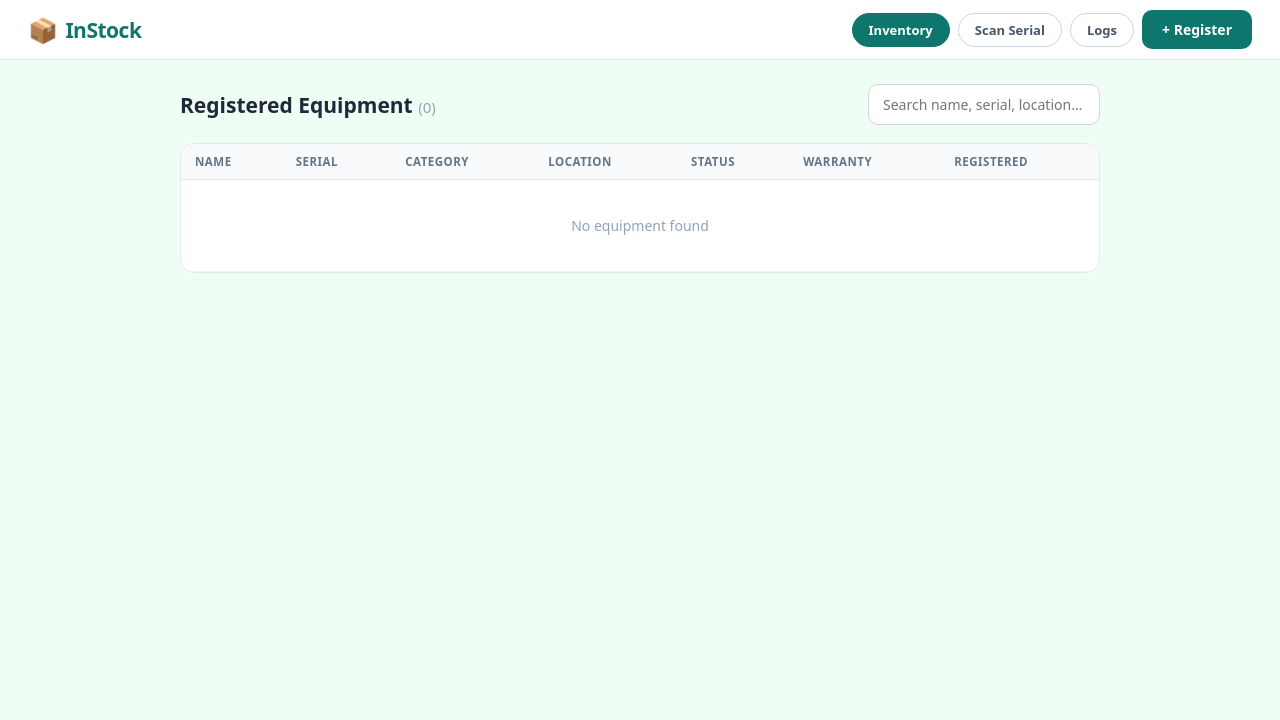
InStock — Sprint 2 Integration Tests › Register Choice Modal › closes the choice modal when Cancel is clicked
Click the button "+ Register" at (1197, 30), box x1=1142 y1=10 x2=1252 y2=49
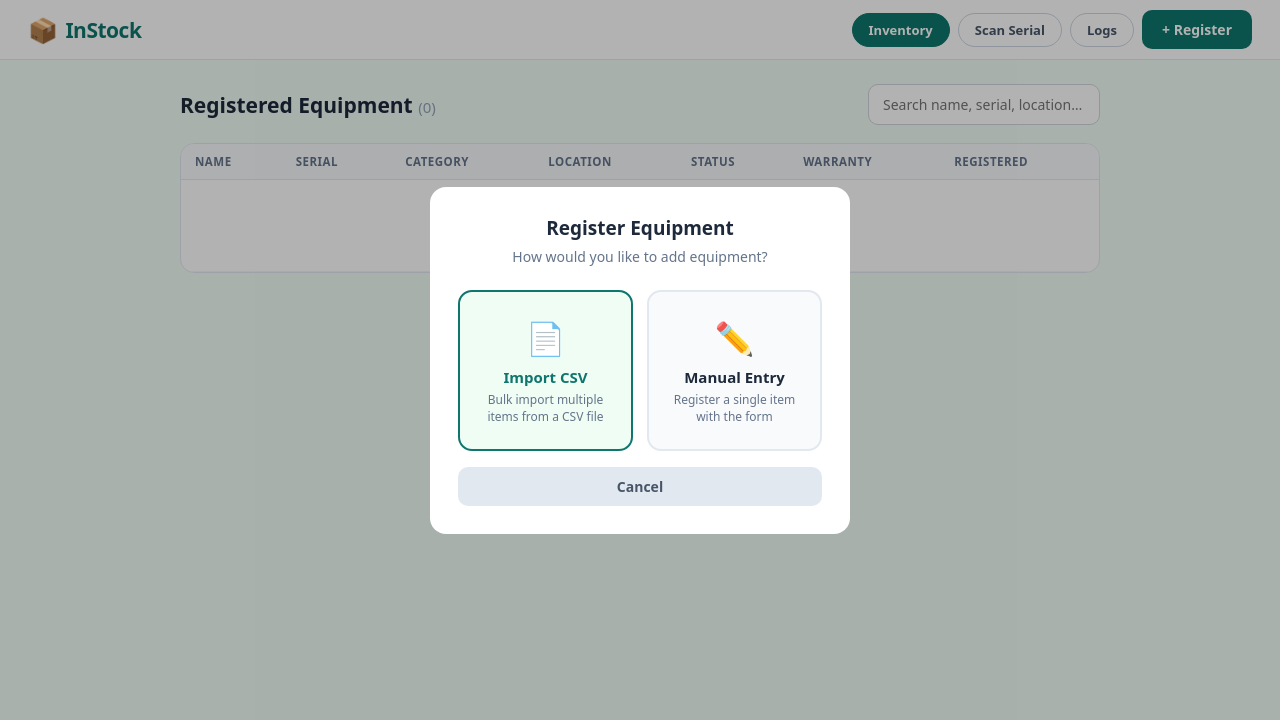
Click the button "Cancel" at (640, 486), box x1=458 y1=466 x2=822 y2=506
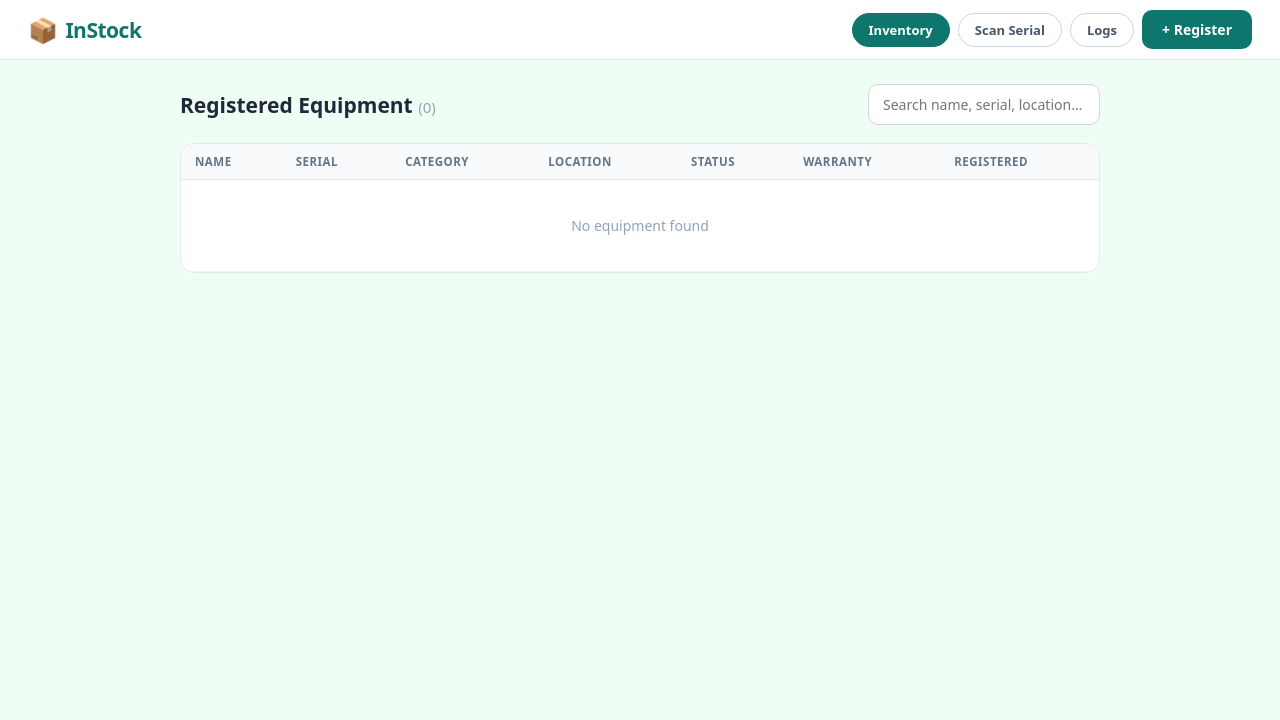
Check: the button "Import CSV" is gone
